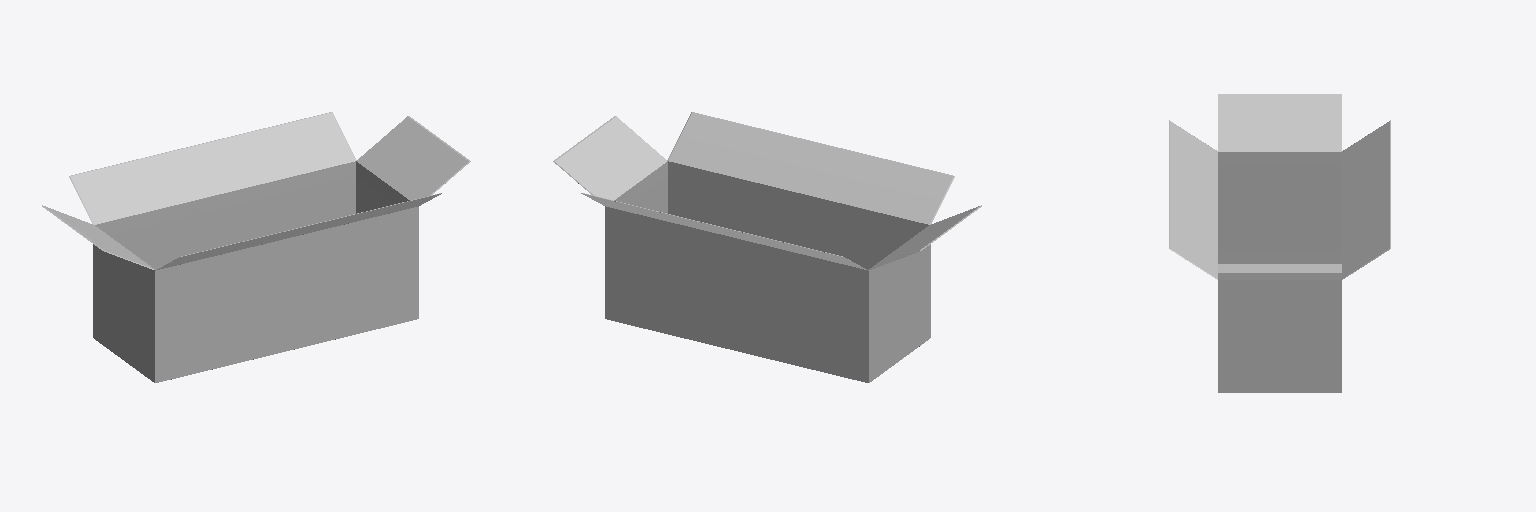
File: cardbox.obj
The picture shows the model from 3 angles: view 1: azimuth 30°, elevation 25°; view 2: azimuth 150°, elevation 25°; view 3: azimuth 270°, elevation 25°; orthographic projection.
Visible parts, largest first — view 1: Cardboard_box; view 2: Cardboard_box; view 3: Cardboard_box.
Part boxes in pixels (x1,y1,x2,y2): Cardboard_box: (42,112,470,382); Cardboard_box: (553,112,981,382); Cardboard_box: (1169,94,1390,392).
Bounding box in the file's own units: 3.42 × 1.29 × 1.78.